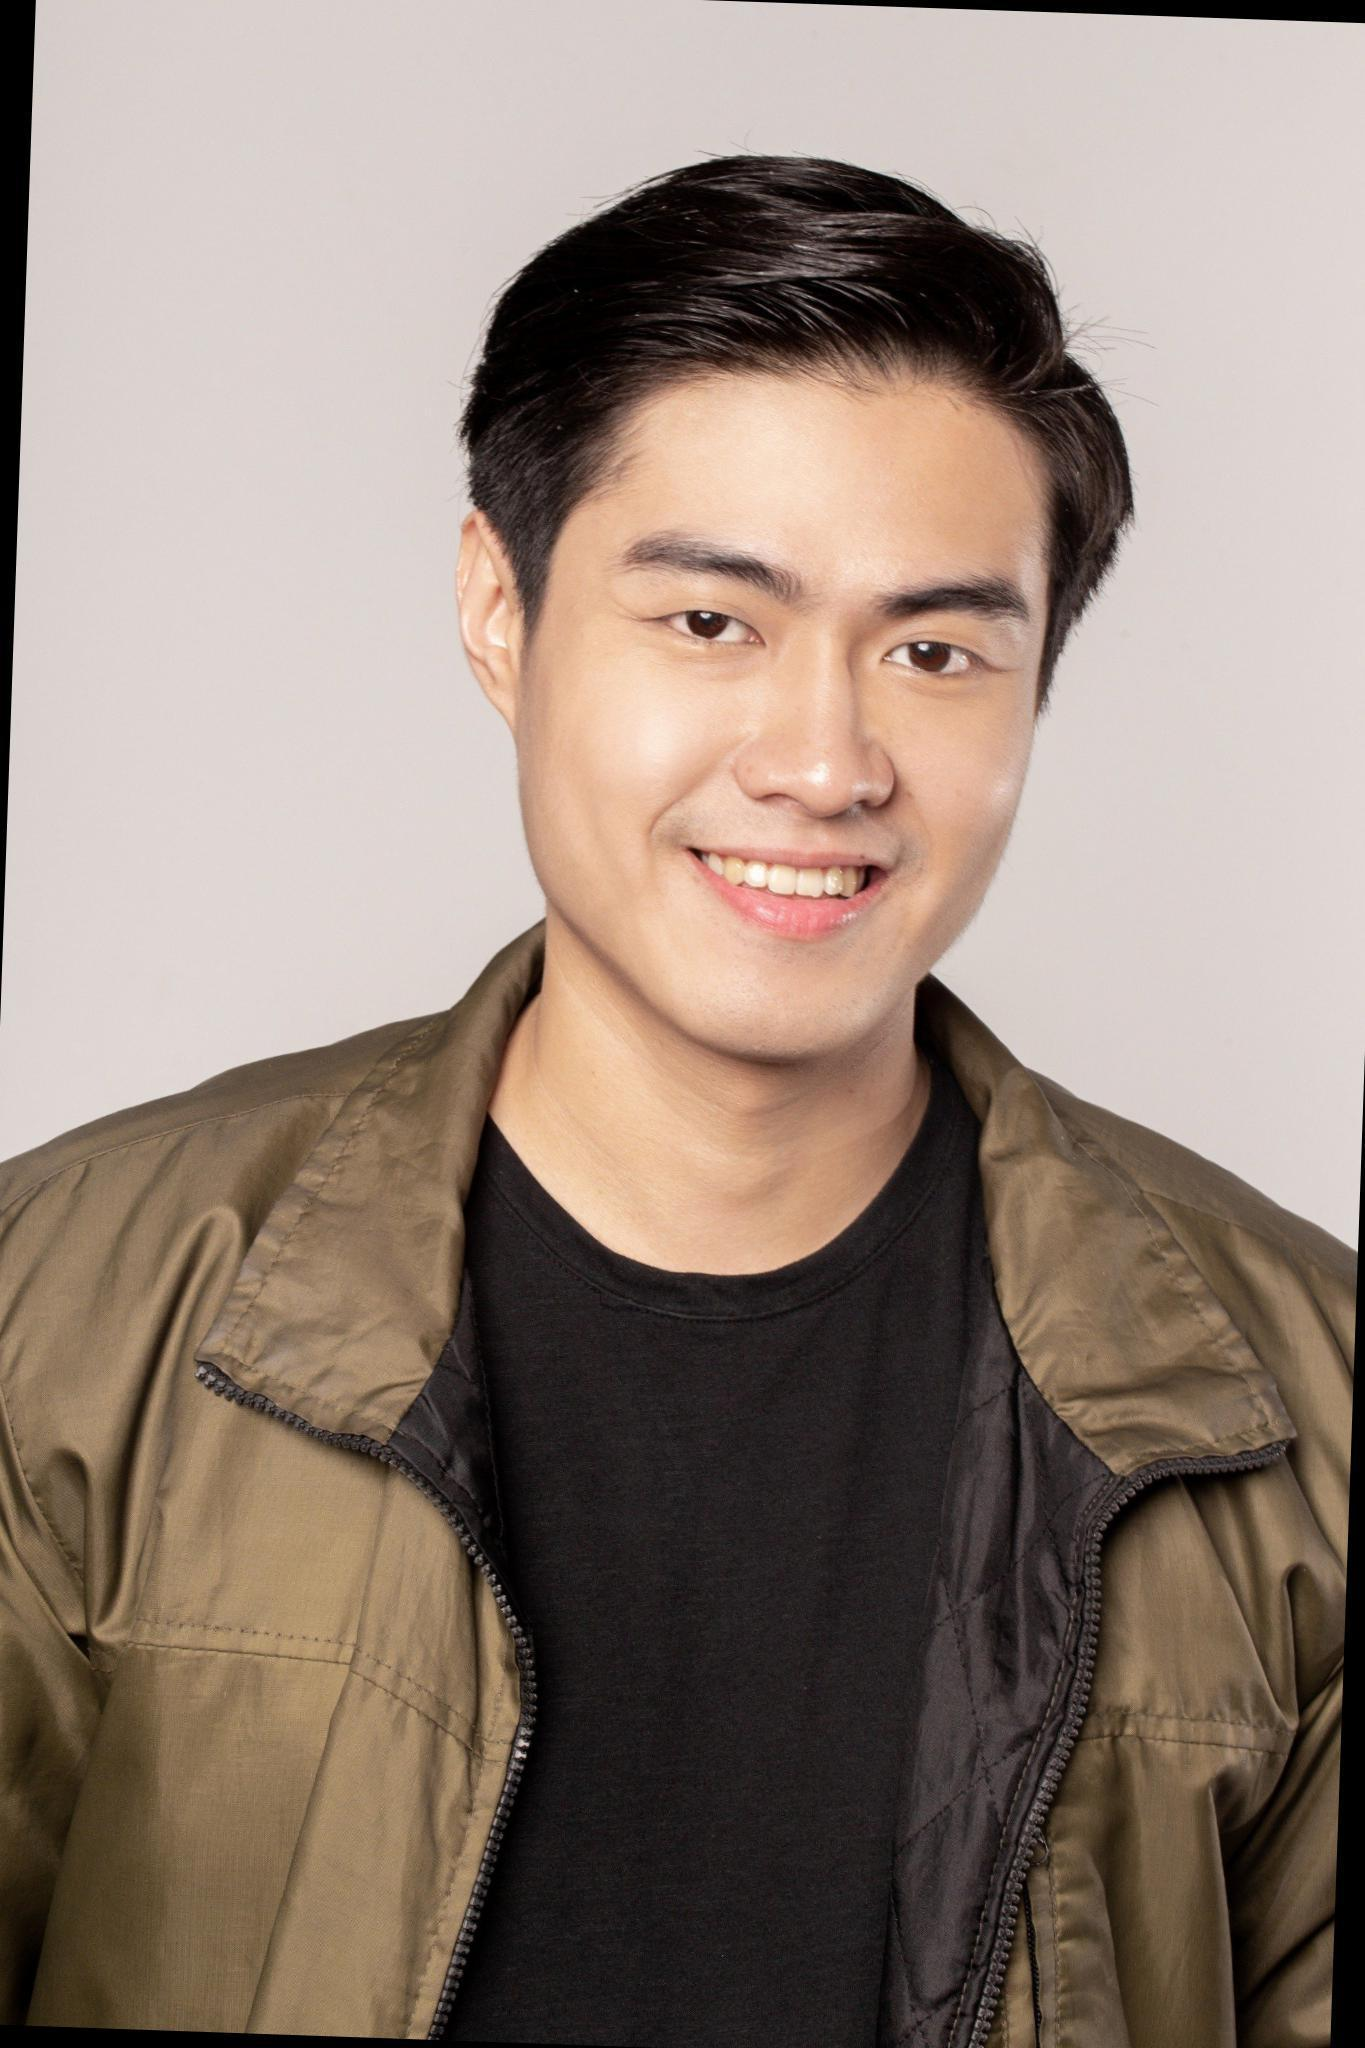Sober: (547, 400, 1025, 1026)
